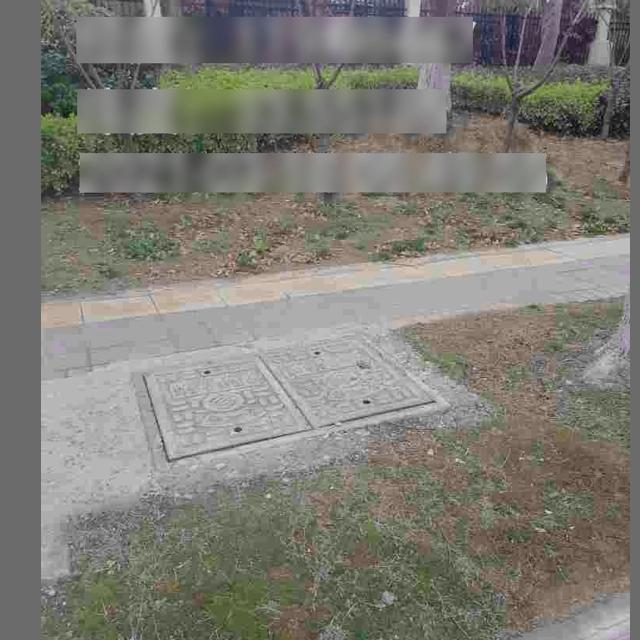good: (134, 329, 453, 471)
